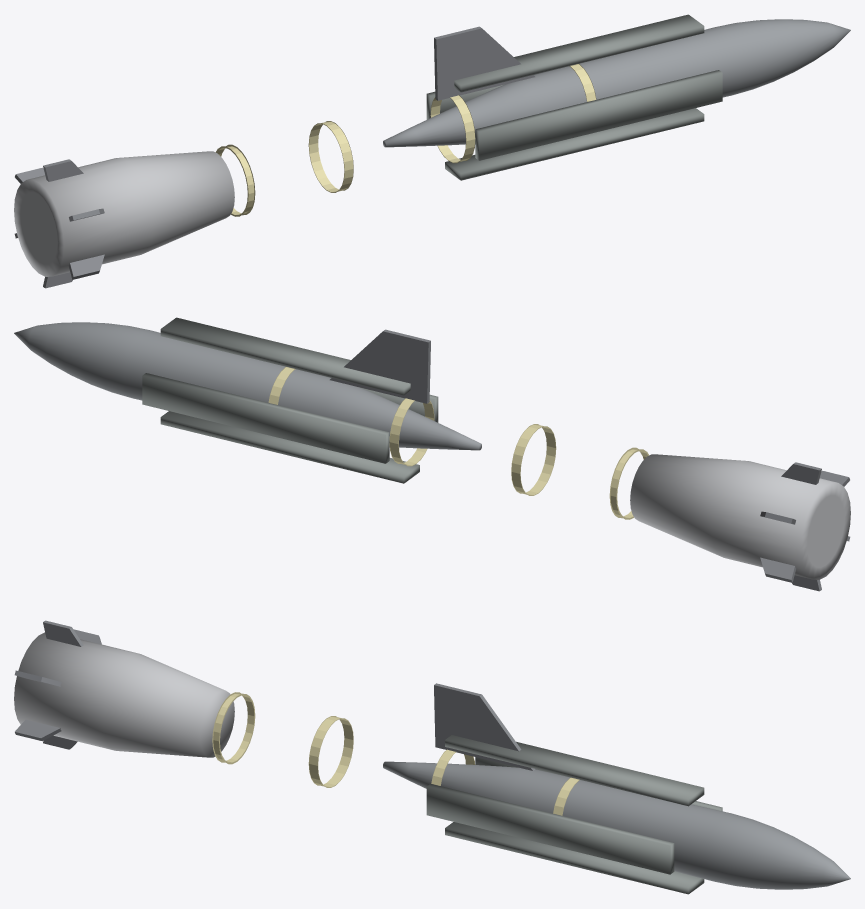
File: RU_ASM_P1000_LOD1.fbx
3 views of the same model, one above another, from view 1: azimuth 30°, elevation 25°; view 2: azimuth 150°, elevation 25°; view 3: azimuth 330°, elevation 25° (orthographic).
Visible parts, largest first — view 1: WPN_RU_ASM_P1000_LOD1_Tail, WPN_RU_ASM_P1000_LOD1_Body, WPN_RU_ASM_P1000_LOD1_Nose, WPN_RU_ASM_P1000_LOD1_Wings, WPN_RU_ASM_P1000_LOD1_Marking, WPN_RU_ASM_P1000_LOD1_Fins; view 2: WPN_RU_ASM_P1000_LOD1_Tail, WPN_RU_ASM_P1000_LOD1_Body, WPN_RU_ASM_P1000_LOD1_Nose, WPN_RU_ASM_P1000_LOD1_Wings, WPN_RU_ASM_P1000_LOD1_Marking, WPN_RU_ASM_P1000_LOD1_Fins; view 3: WPN_RU_ASM_P1000_LOD1_Body, WPN_RU_ASM_P1000_LOD1_Tail, WPN_RU_ASM_P1000_LOD1_Nose, WPN_RU_ASM_P1000_LOD1_Wings, WPN_RU_ASM_P1000_LOD1_Marking, WPN_RU_ASM_P1000_LOD1_Fins.
Part boxes in pixels (x1=…): WPN_RU_ASM_P1000_LOD1_Tail: x1=14, y1=151, x2=234, y2=276; WPN_RU_ASM_P1000_LOD1_Body: x1=383, y1=19, x2=850, y2=147; WPN_RU_ASM_P1000_LOD1_Nose: x1=426, y1=14, x2=722, y2=180; WPN_RU_ASM_P1000_LOD1_Wings: x1=434, y1=26, x2=534, y2=100; WPN_RU_ASM_P1000_LOD1_Marking: x1=215, y1=64, x2=596, y2=216; WPN_RU_ASM_P1000_LOD1_Fins: x1=14, y1=159, x2=104, y2=288; WPN_RU_ASM_P1000_LOD1_Tail: x1=630, y1=454, x2=850, y2=579; WPN_RU_ASM_P1000_LOD1_Body: x1=14, y1=322, x2=481, y2=450; WPN_RU_ASM_P1000_LOD1_Nose: x1=142, y1=317, x2=438, y2=483; WPN_RU_ASM_P1000_LOD1_Wings: x1=330, y1=329, x2=430, y2=403; WPN_RU_ASM_P1000_LOD1_Marking: x1=268, y1=367, x2=649, y2=519; WPN_RU_ASM_P1000_LOD1_Fins: x1=760, y1=462, x2=850, y2=591; WPN_RU_ASM_P1000_LOD1_Body: x1=383, y1=761, x2=850, y2=889; WPN_RU_ASM_P1000_LOD1_Tail: x1=14, y1=632, x2=234, y2=757; WPN_RU_ASM_P1000_LOD1_Nose: x1=426, y1=735, x2=722, y2=894; WPN_RU_ASM_P1000_LOD1_Wings: x1=434, y1=683, x2=535, y2=770; WPN_RU_ASM_P1000_LOD1_Marking: x1=212, y1=692, x2=579, y2=815; WPN_RU_ASM_P1000_LOD1_Fins: x1=14, y1=620, x2=101, y2=749.
Size of the model in its own units: 11.7 by 1.47 by 2.12.
